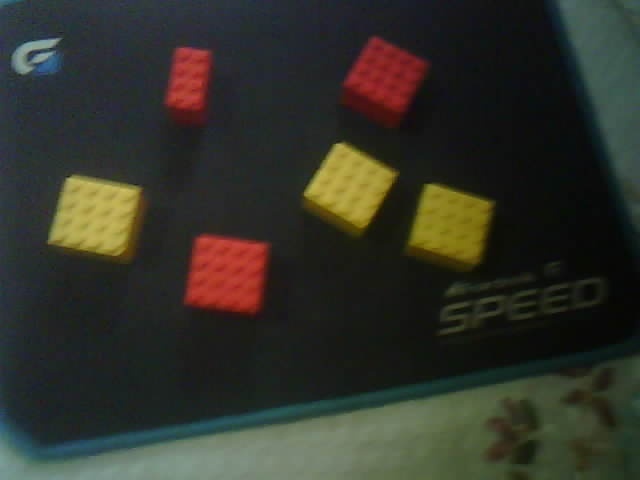lego: (301, 140, 400, 240), (46, 174, 147, 267), (340, 35, 430, 129), (401, 182, 494, 272), (182, 232, 271, 319), (162, 46, 213, 126)
